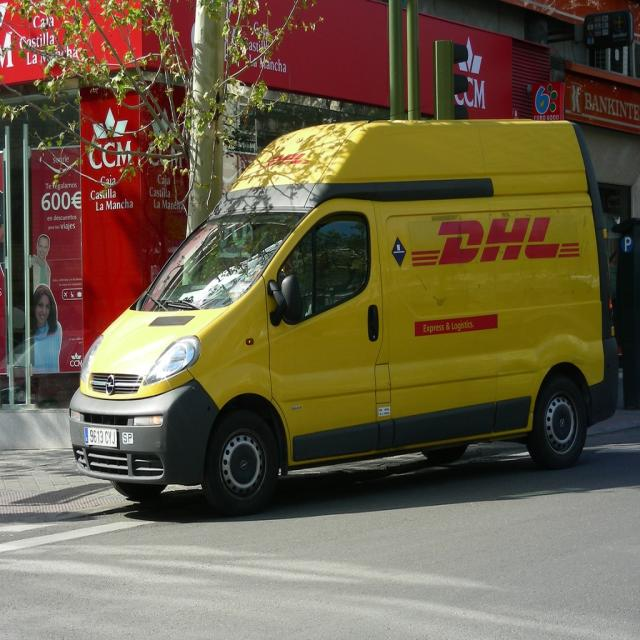dhl: (408, 211, 587, 273), (262, 152, 314, 168)
